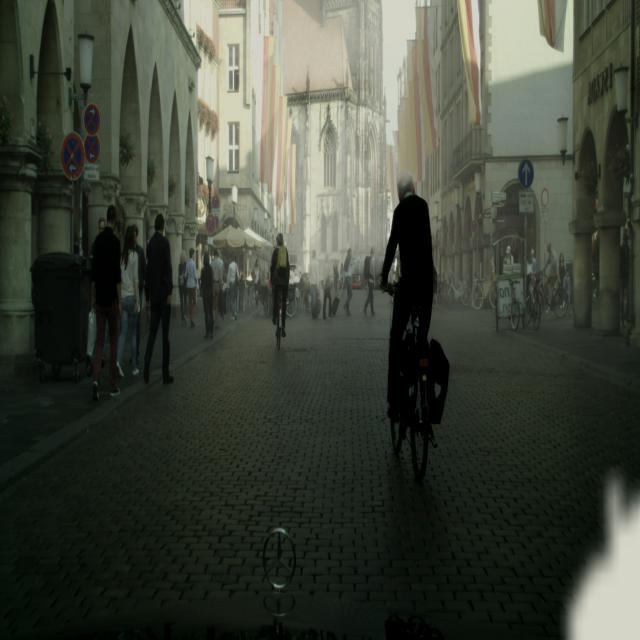car: (390, 291, 435, 483), (523, 274, 543, 331)
person: (379, 169, 435, 429), (90, 205, 122, 401), (143, 213, 174, 385), (118, 226, 142, 378), (269, 232, 290, 344), (199, 249, 215, 338), (185, 248, 199, 328), (542, 241, 558, 308), (362, 248, 377, 318), (342, 246, 354, 315), (227, 254, 239, 321), (178, 249, 188, 327), (309, 249, 320, 318), (322, 256, 332, 320)
